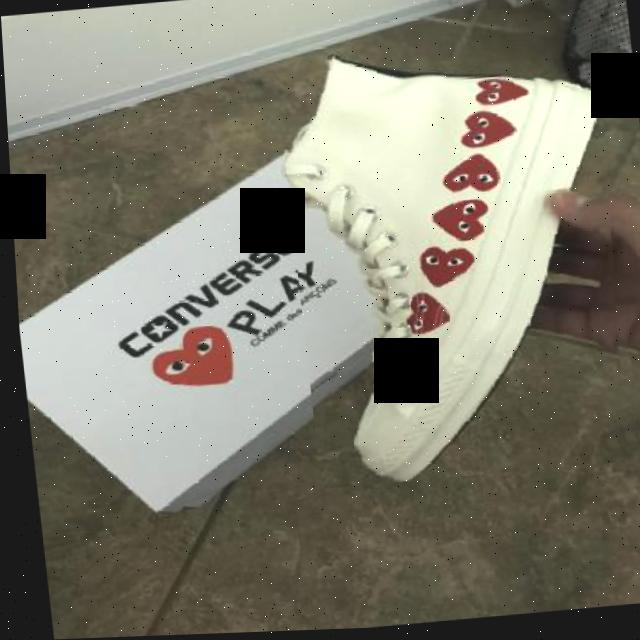shoe: (273, 37, 640, 492)
